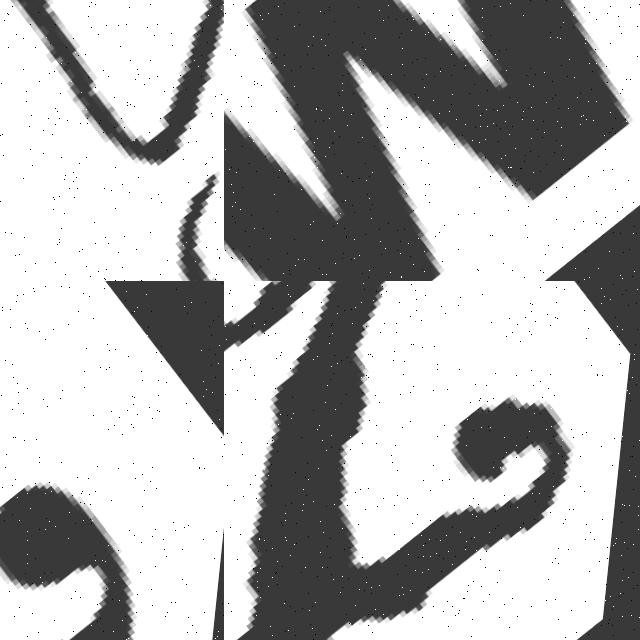W: (224, 0, 640, 281)
Y: (0, 0, 224, 281)
Z: (224, 281, 640, 640), (0, 281, 224, 640)
